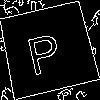P: (23, 24, 64, 76)
